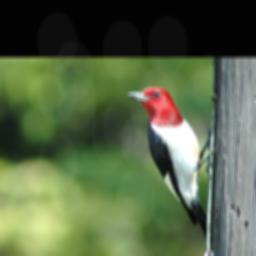Woodpecker: (124, 87, 224, 244)
